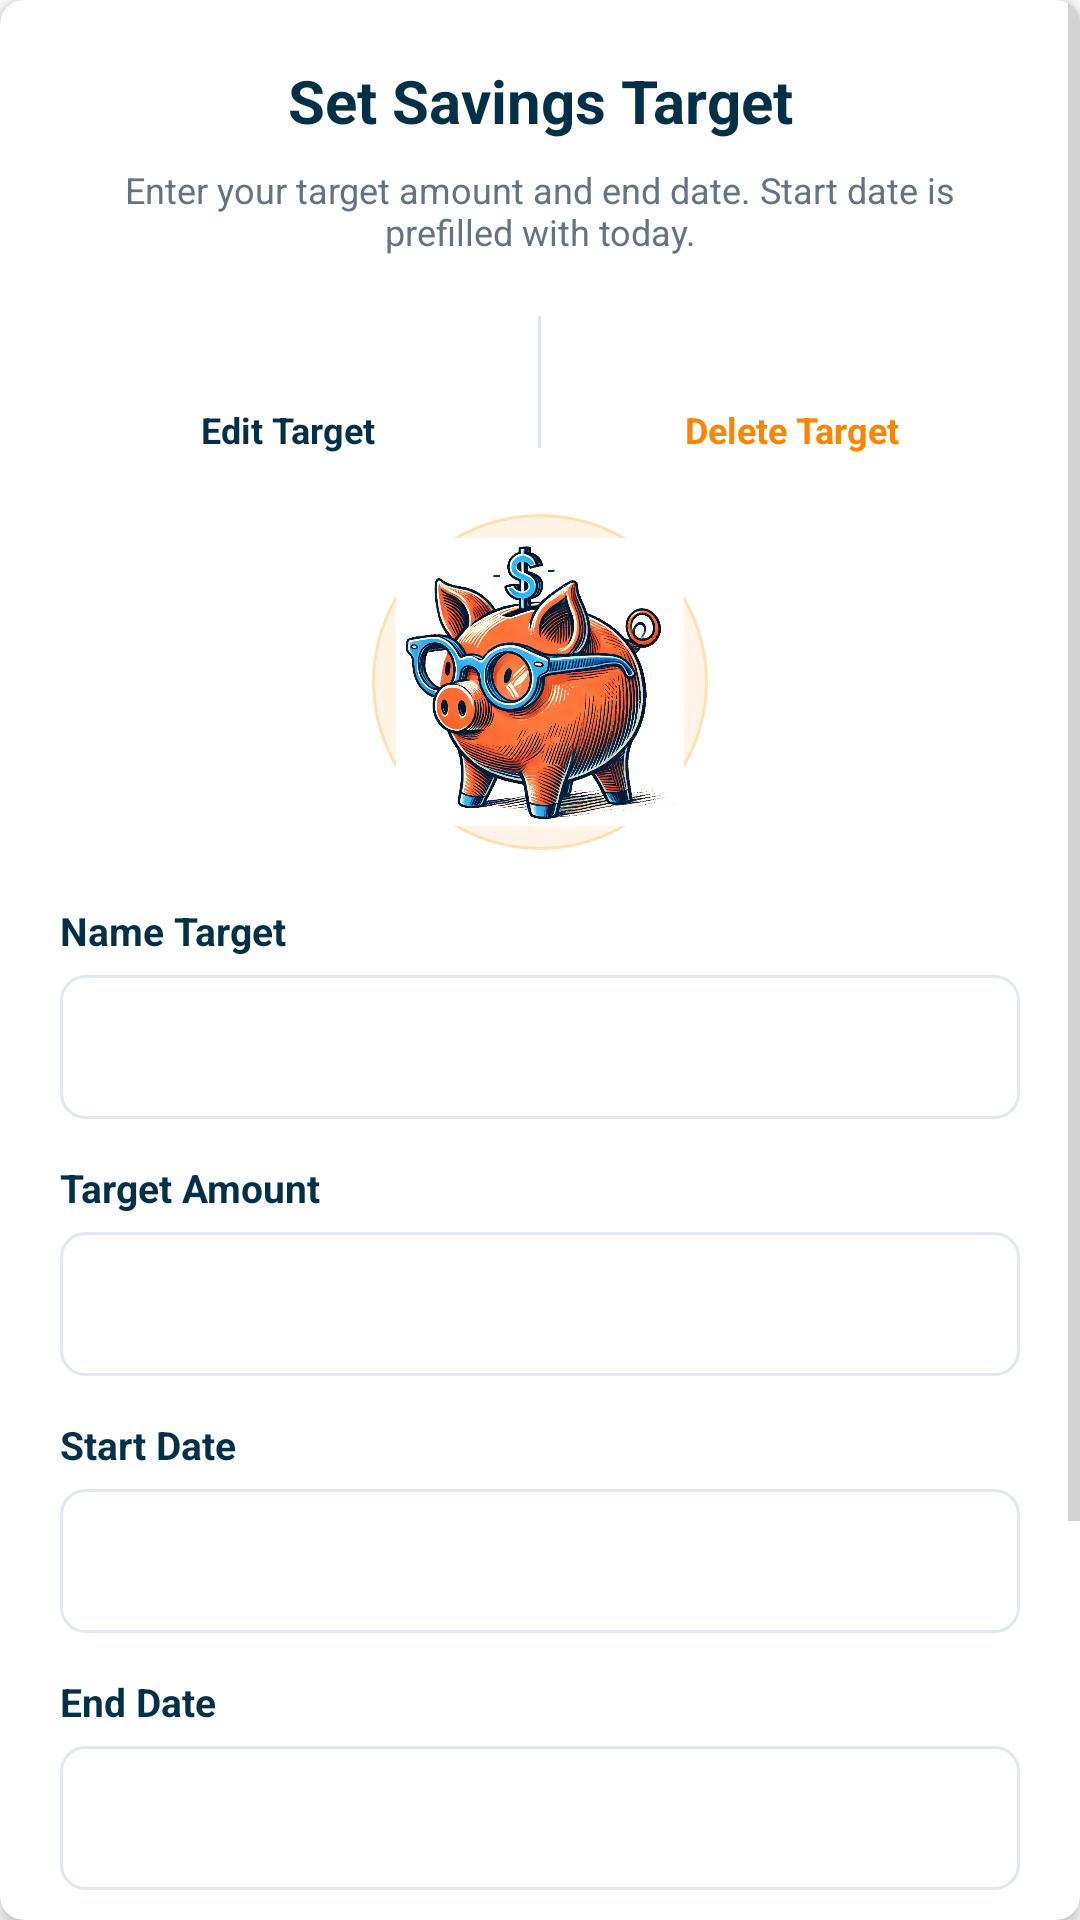

Screen size 1080w x 1920h. Icon name, then its box in pixels as (x1=x1, y1=y1, x2=x2, y2=y2):
Savings Goal Image: (x1=406, y1=546, x2=663, y2=819)
